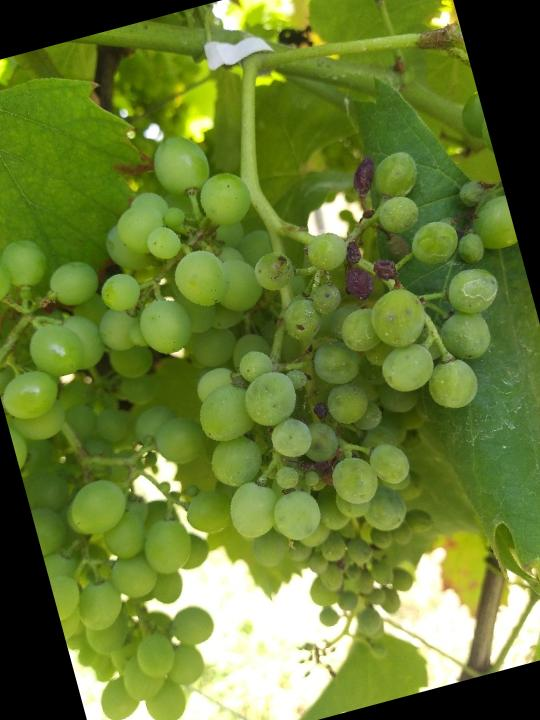grape: (55, 62, 540, 600)
